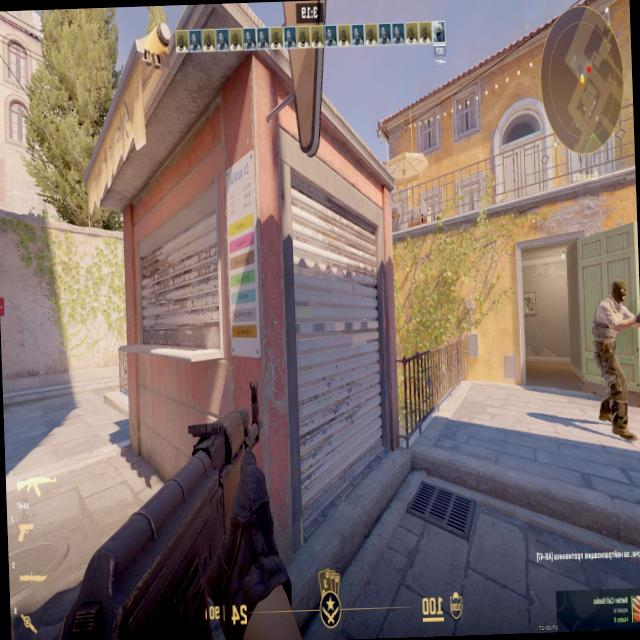T: (592, 282, 622, 390)
T_heat: (612, 280, 622, 303)
